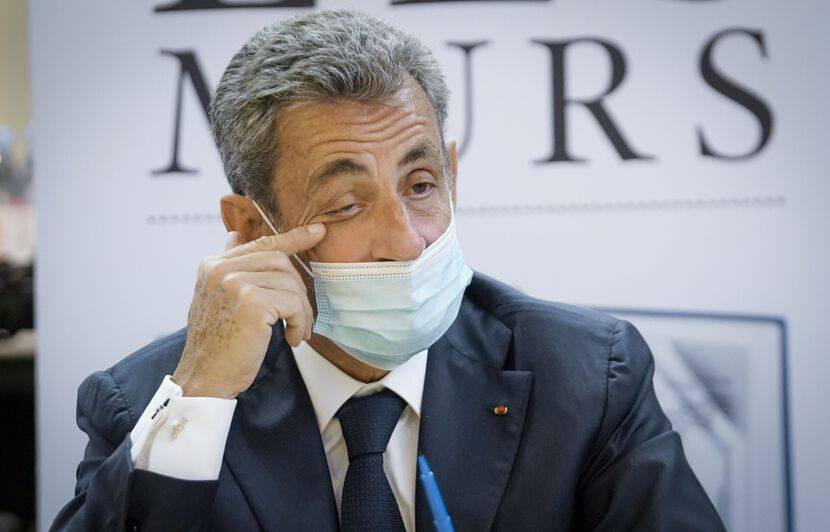with_incorrect_mask: (291, 135, 465, 366)
